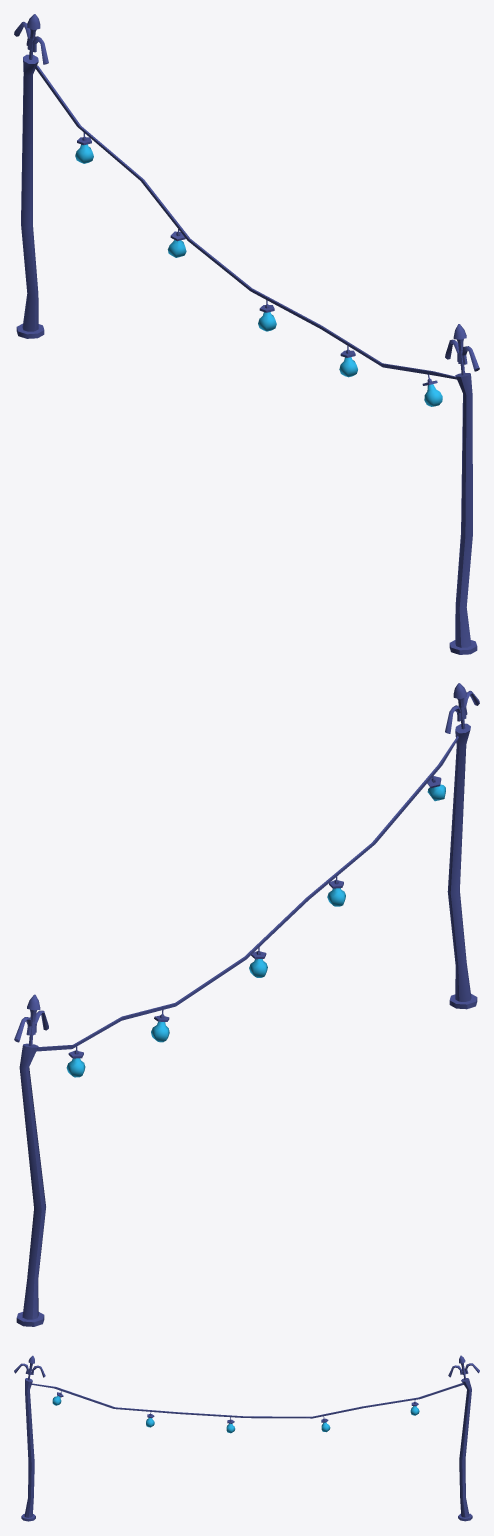
Rendered from SM_HangingLights_01.fbx.
The picture shows the model from 3 angles, top to bottom: view 1: azimuth 30°, elevation 25°; view 2: azimuth 150°, elevation 25°; view 3: azimuth 270°, elevation 25°; orthographic projection. The views are drawn at different scales.
Parts seen in each view (by area): view 1: SM_HangingLights_01; view 2: SM_HangingLights_01; view 3: SM_HangingLights_01.
Boxes of the visible parts, x1=… form: SM_HangingLights_01: x1=14, y1=14, x2=479, y2=654; SM_HangingLights_01: x1=14, y1=683, x2=479, y2=1326; SM_HangingLights_01: x1=14, y1=1355, x2=479, y2=1521.
Size of the model in its own units: 140 by 1470 by 3815.
